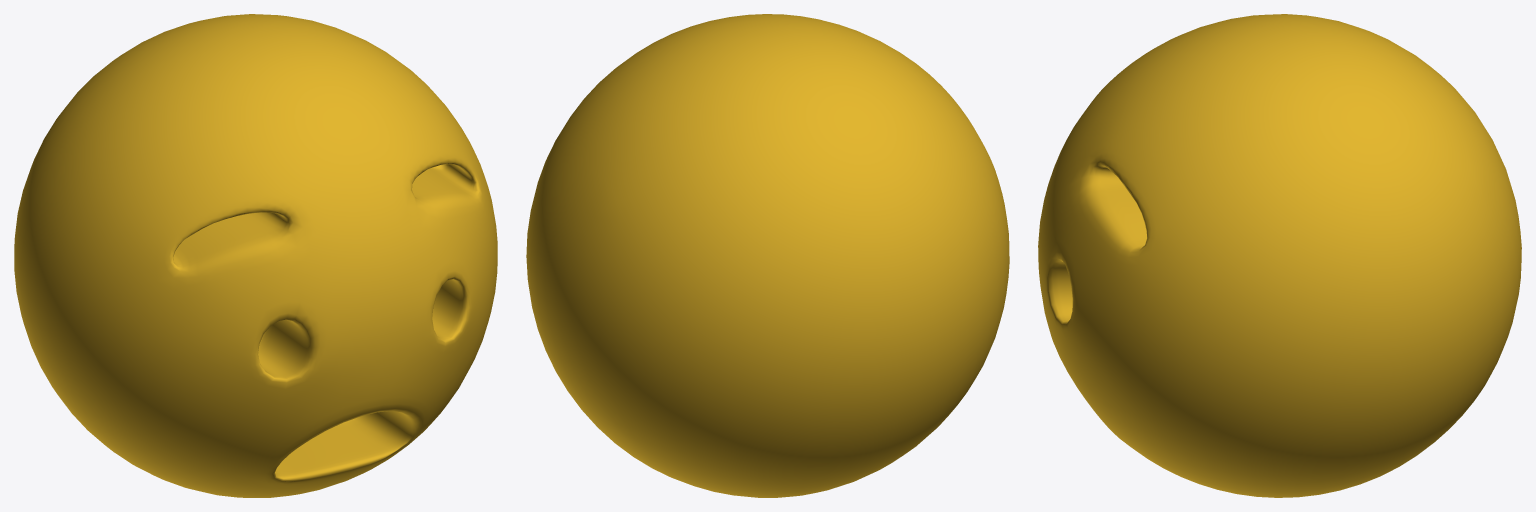
The model's file is fearful.glb.
3 renders of one model, left to right at view 1: azimuth 30°, elevation 25°; view 2: azimuth 150°, elevation 25°; view 3: azimuth 270°, elevation 25°, orthographic.
Parts seen in each view (by area): view 1: Group40013; view 2: Group40013; view 3: Group40013.
Part boxes in pixels (x1=…): Group40013: x1=14, y1=14, x2=497, y2=497; Group40013: x1=526, y1=14, x2=1009, y2=497; Group40013: x1=1038, y1=14, x2=1521, y2=497.
Bounding box in the file's own units: 0.6012 × 0.6003 × 0.6011.
